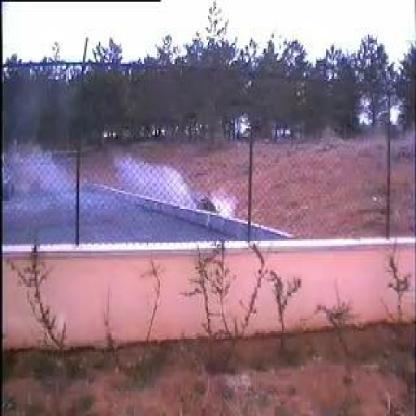-: (38, 147, 209, 243)
